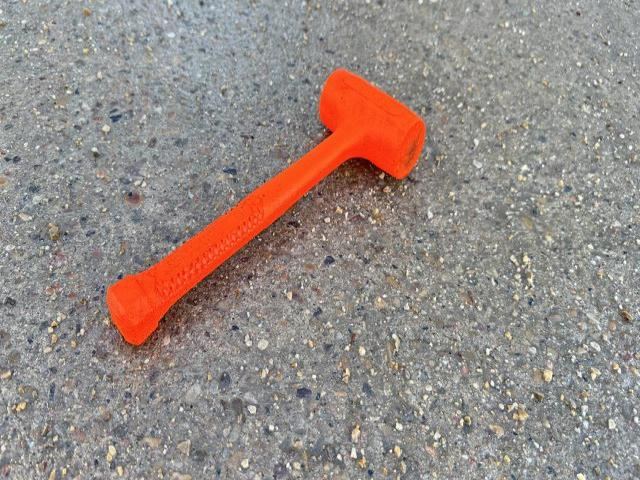hammer: (104, 67, 424, 348)
